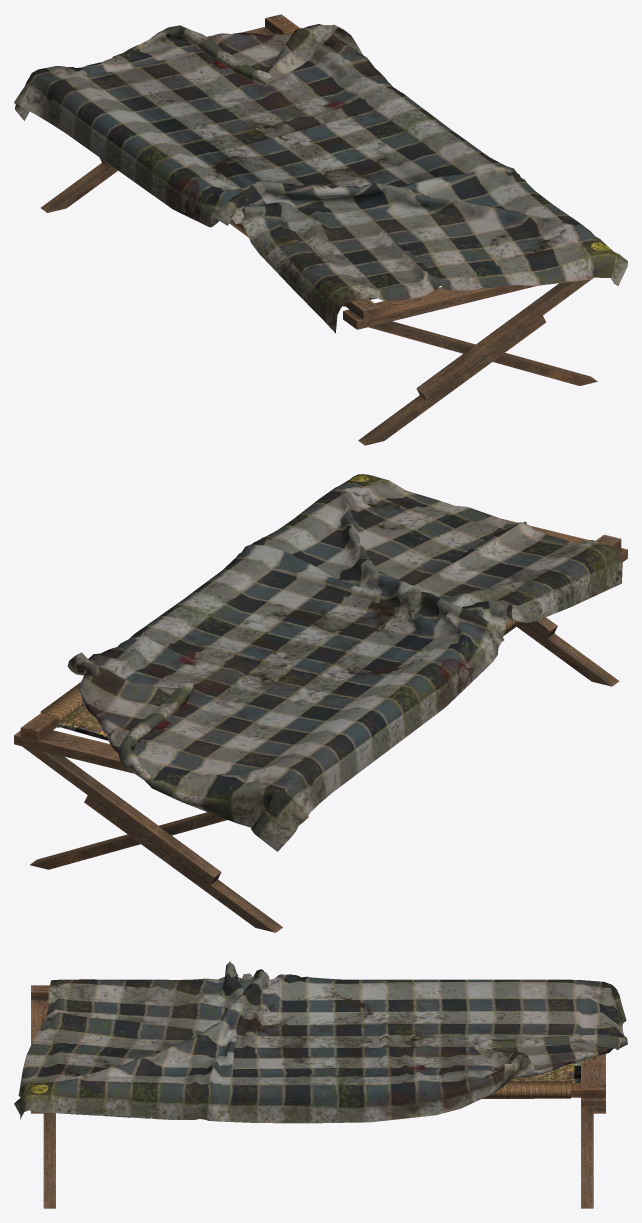
File: folding_wicker_bed_d.glb
3 views of the same model, one above another, from view 1: azimuth 30°, elevation 25°; view 2: azimuth 150°, elevation 25°; view 3: azimuth 270°, elevation 25° (orthographic). The views are drawn at different scales.
Visible parts, largest first — view 1: Fabric_C, Folding_Wicker_Bed_D; view 2: Fabric_C, Folding_Wicker_Bed_D; view 3: Fabric_C, Folding_Wicker_Bed_D.
Boxes of the visible parts, x1=… form: Fabric_C: x1=14, y1=24, x2=627, y2=333; Folding_Wicker_Bed_D: x1=40, y1=14, x2=597, y2=445; Fabric_C: x1=67, y1=474, x2=622, y2=851; Folding_Wicker_Bed_D: x1=14, y1=519, x2=627, y2=932; Fabric_C: x1=14, y1=961, x2=627, y2=1123; Folding_Wicker_Bed_D: x1=31, y1=985, x2=605, y2=1208.
Size of the model in its own units: 0.9096 by 0.4891 by 1.87.
1 material, 1 textured.
